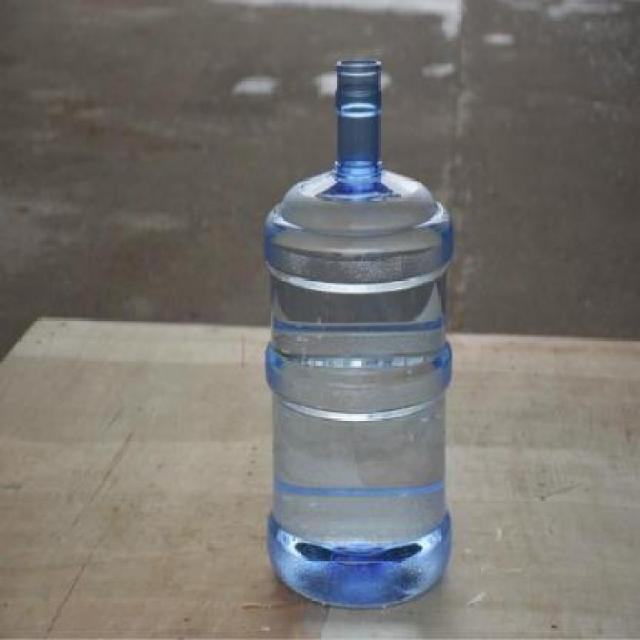coolerbottle: (262, 48, 458, 616)
